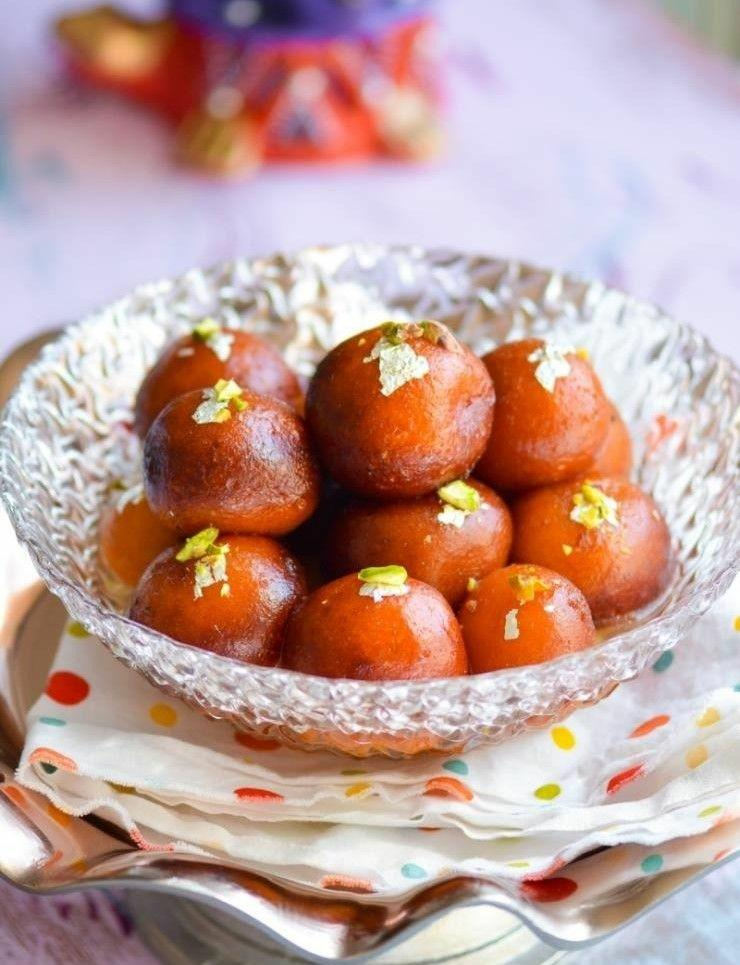GulabJamun: (331, 322, 495, 495), (137, 382, 325, 532), (133, 528, 308, 665), (132, 320, 307, 455), (518, 465, 669, 608), (295, 563, 462, 681), (482, 335, 610, 480), (353, 468, 515, 582), (461, 563, 603, 672), (102, 478, 185, 596)
